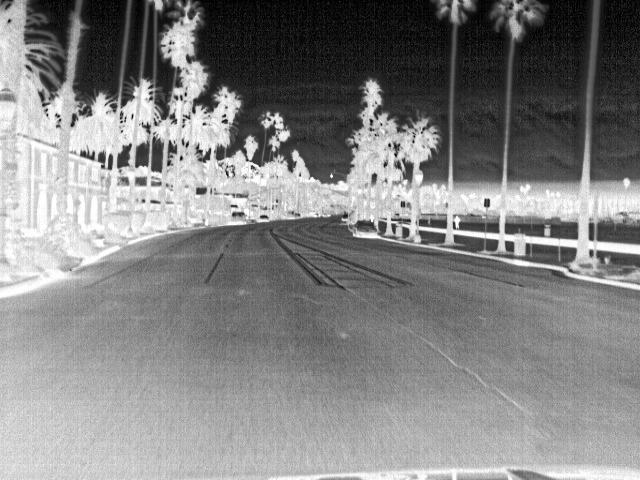car: (353, 219, 381, 239), (231, 210, 250, 225), (257, 214, 271, 222), (341, 212, 351, 222)
person: (453, 213, 464, 230)
